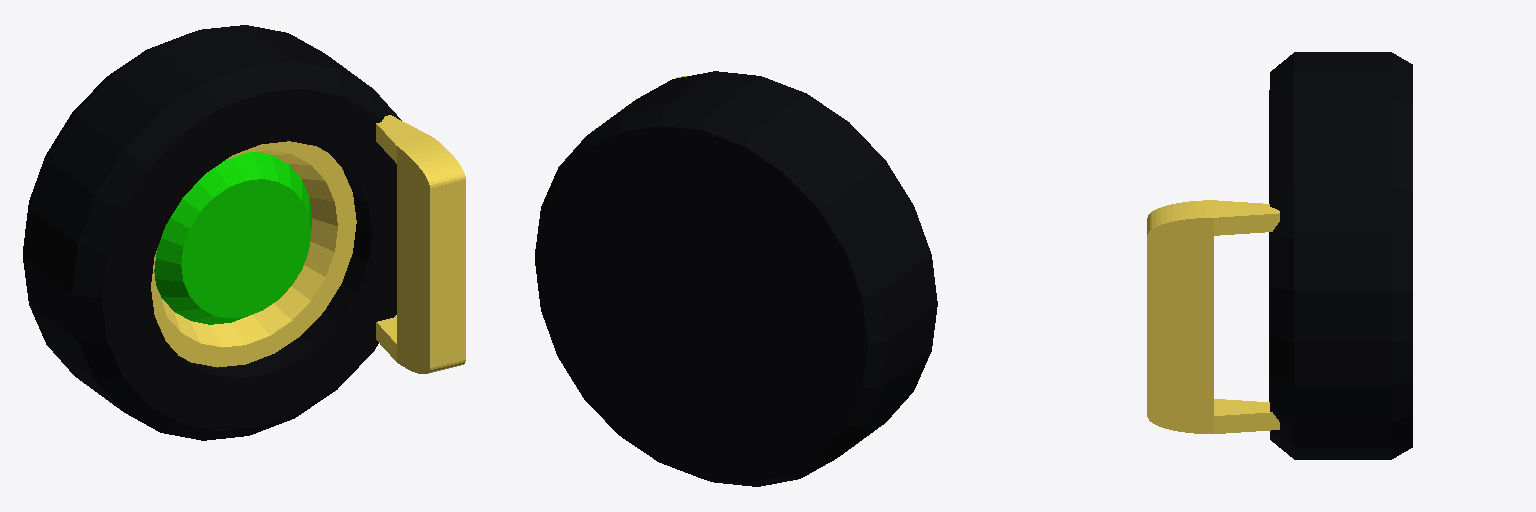
File: FuelTankDoor.obj
3 renders of one model, left to right at view 1: azimuth 30°, elevation 25°; view 2: azimuth 150°, elevation 25°; view 3: azimuth 270°, elevation 25°, orthographic.
Visible parts, largest first — view 1: mergedBlocks; view 2: mergedBlocks; view 3: mergedBlocks.
Boxes of the visible parts, x1=… form: mergedBlocks: x1=23, y1=25, x2=465, y2=440; mergedBlocks: x1=535, y1=71, x2=937, y2=486; mergedBlocks: x1=1147, y1=52, x2=1412, y2=459.
Size of the model in its own units: 0.6161 by 0.6161 by 0.4.